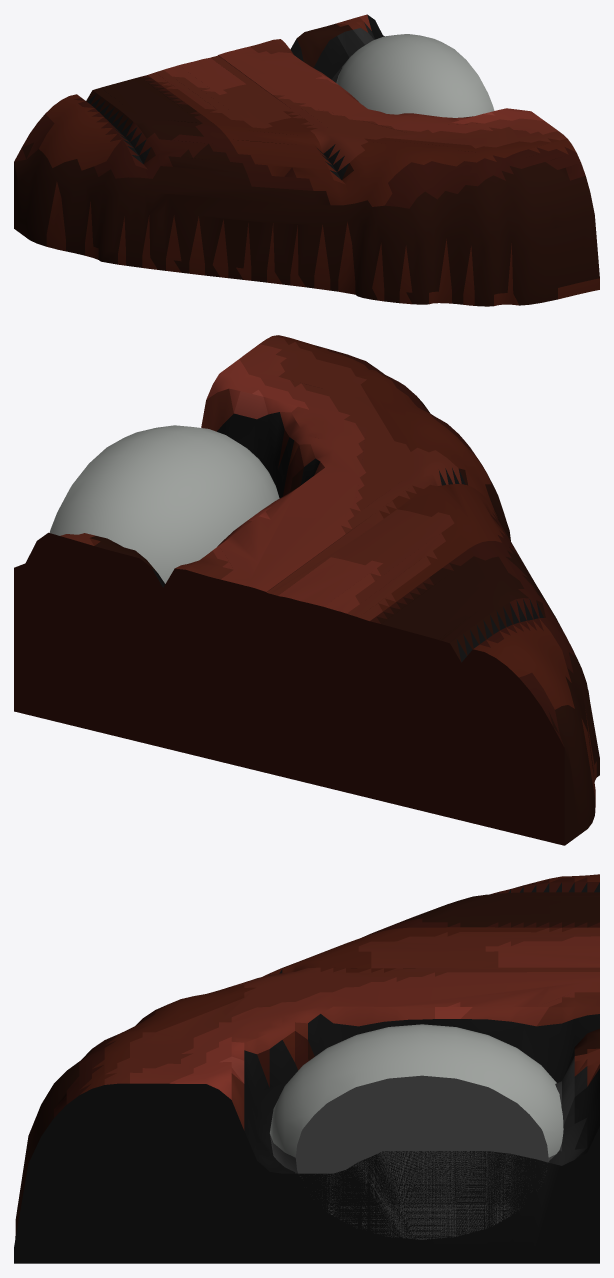
File: savara_boss_230.glb
3 views of the same model, one above another, from view 1: azimuth 30°, elevation 25°; view 2: azimuth 150°, elevation 25°; view 3: azimuth 270°, elevation 25° (orthographic). The views are drawn at different scales.
Visible parts, largest first — view 1: savara_boss_230_hull; view 2: savara_boss_230_hull; view 3: savara_boss_230_hull.
Boxes of the visible parts, box(x1,y1,x2,y2) form: savara_boss_230_hull: box(14, 14, 599, 306); savara_boss_230_hull: box(14, 335, 599, 845); savara_boss_230_hull: box(14, 874, 599, 1263).
Size of the model in its own units: 24 by 8.9 by 23.07.
